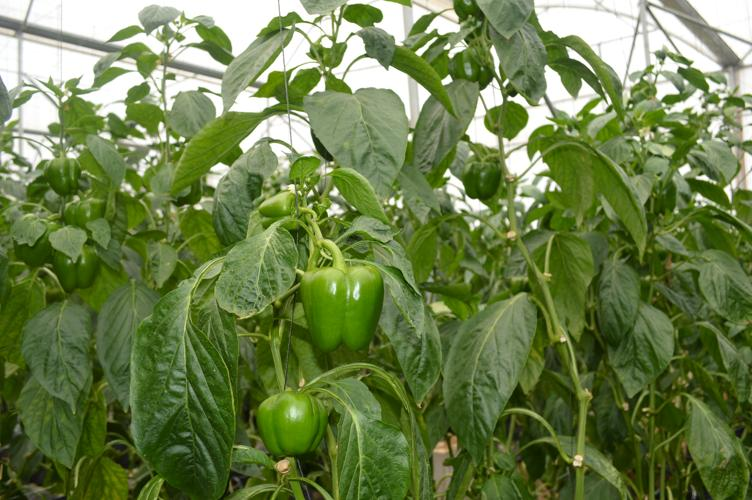BellPepper: (290, 256, 395, 346), (241, 384, 334, 449), (250, 190, 318, 244), (9, 218, 59, 285), (459, 156, 509, 208), (51, 244, 103, 288), (40, 149, 83, 196), (59, 194, 109, 230)
